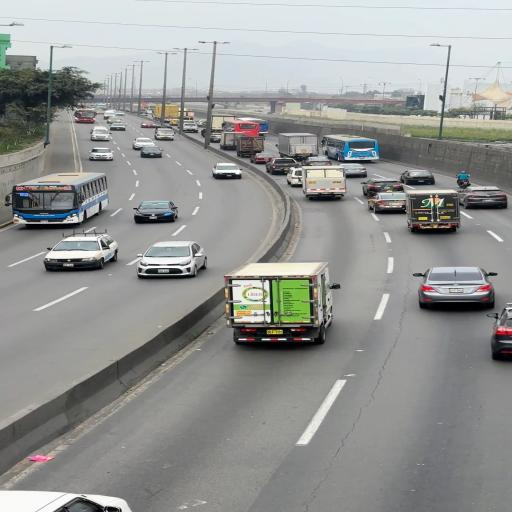auto: (416, 266, 498, 308), (0, 490, 135, 512), (42, 235, 117, 270), (136, 240, 206, 275), (488, 303, 511, 360), (132, 200, 180, 223), (460, 187, 506, 209), (361, 179, 402, 197), (367, 196, 407, 212), (398, 169, 435, 185), (211, 162, 243, 180), (267, 157, 300, 173), (337, 163, 367, 177), (249, 152, 279, 165), (88, 147, 115, 160), (138, 146, 164, 158), (287, 170, 303, 186), (90, 130, 110, 141), (154, 130, 175, 140), (132, 141, 155, 150), (91, 125, 109, 134), (182, 124, 198, 133), (110, 122, 126, 131), (209, 131, 222, 142), (209, 124, 223, 133), (155, 128, 174, 134), (140, 122, 156, 128), (115, 111, 125, 116)
bus: (10, 172, 109, 225), (300, 164, 349, 201), (323, 133, 381, 162), (153, 104, 197, 124), (223, 119, 262, 137), (74, 108, 96, 123), (131, 103, 149, 113), (104, 109, 117, 118), (95, 103, 107, 109)
camion: (222, 257, 335, 333), (403, 189, 461, 232), (275, 132, 320, 159), (219, 130, 251, 152), (234, 134, 265, 156), (208, 114, 236, 134)
moto: (458, 171, 472, 186)
